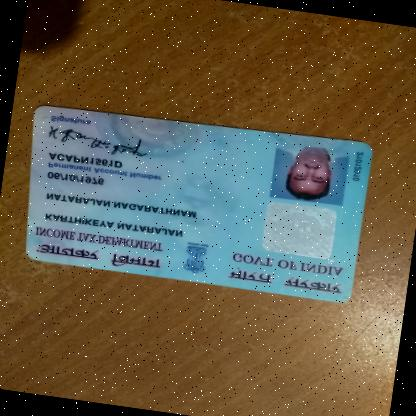pan_card: (12, 88, 375, 312)
